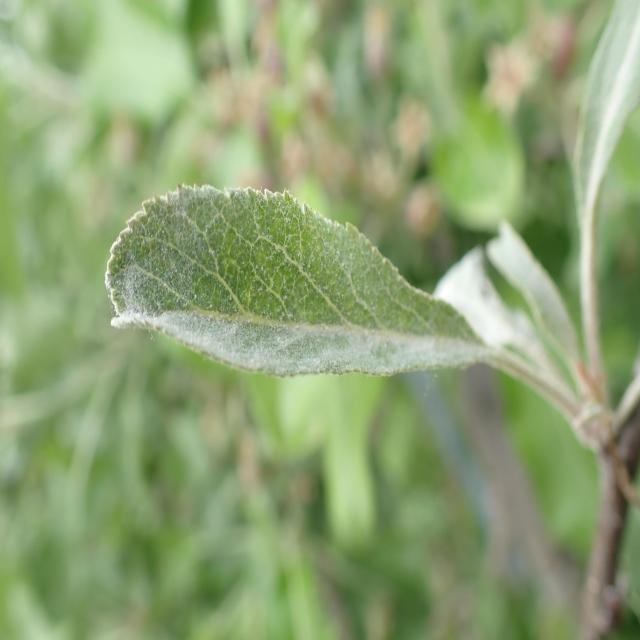Powdery_mildew: (101, 162, 501, 407)
